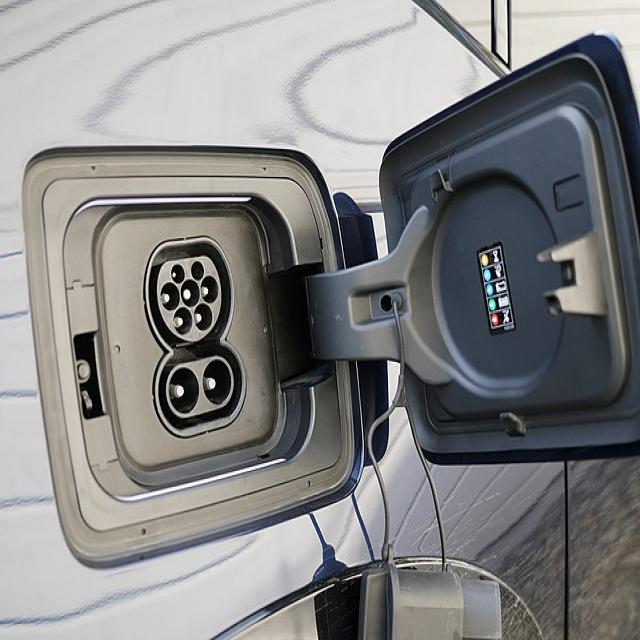inlet: (157, 256, 221, 341)
inlet-above-left: (171, 264, 185, 283)
inlet-above-right: (191, 260, 204, 281)
inlet-below-left: (173, 306, 192, 336)
inlet-below-right: (194, 304, 212, 332)
inlet-circle: (180, 279, 199, 307)
inlet-circle-left: (161, 282, 179, 310)
inlet-circle-right: (201, 276, 218, 304)
inlet-minus: (203, 359, 231, 404)
inlet-plus: (169, 367, 199, 413)
